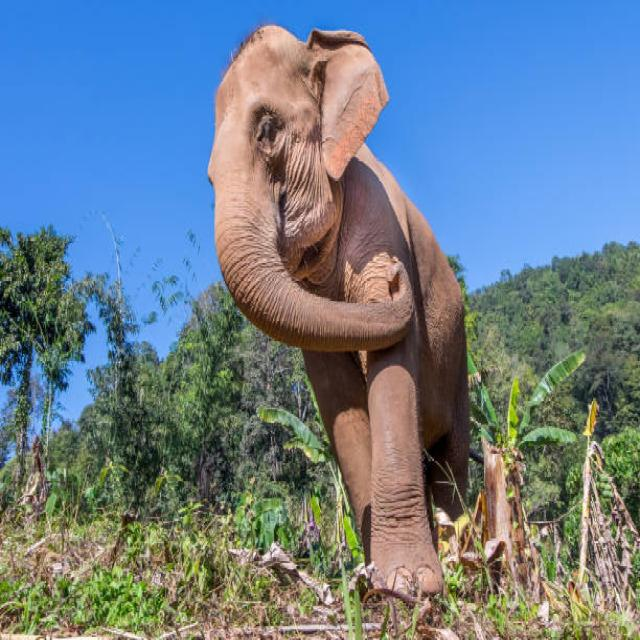Elephant: (201, 14, 488, 609)
